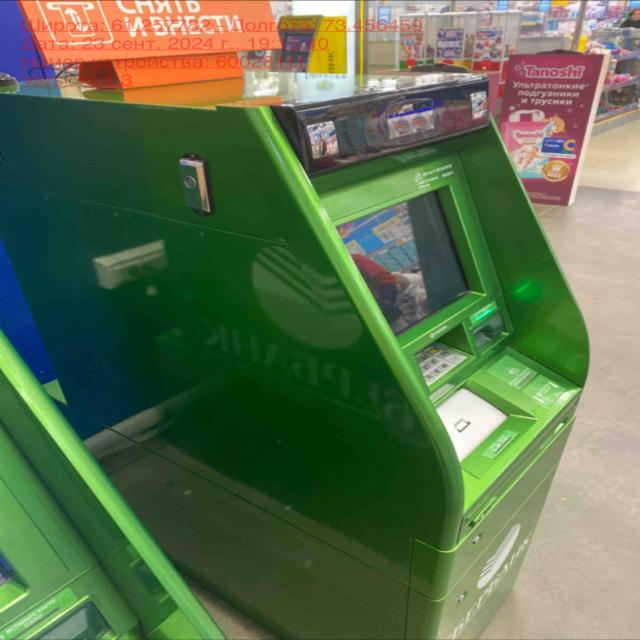bank: (0, 0, 587, 640), (0, 335, 226, 640)
